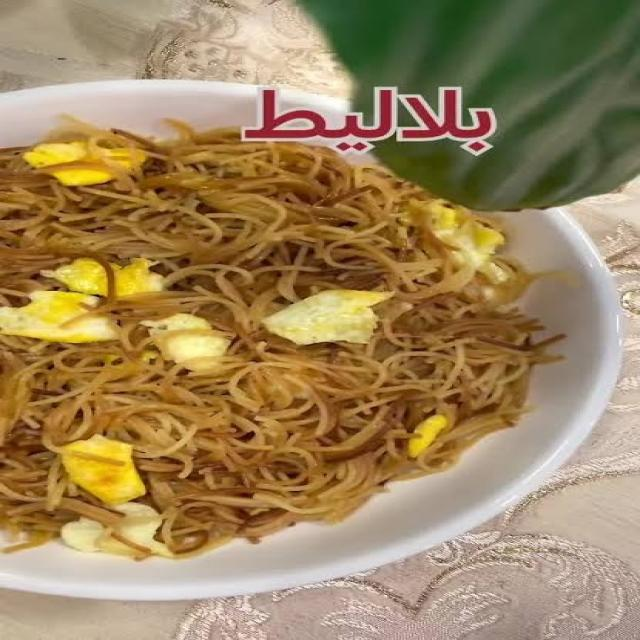Balaleet: (0, 142, 440, 584)
